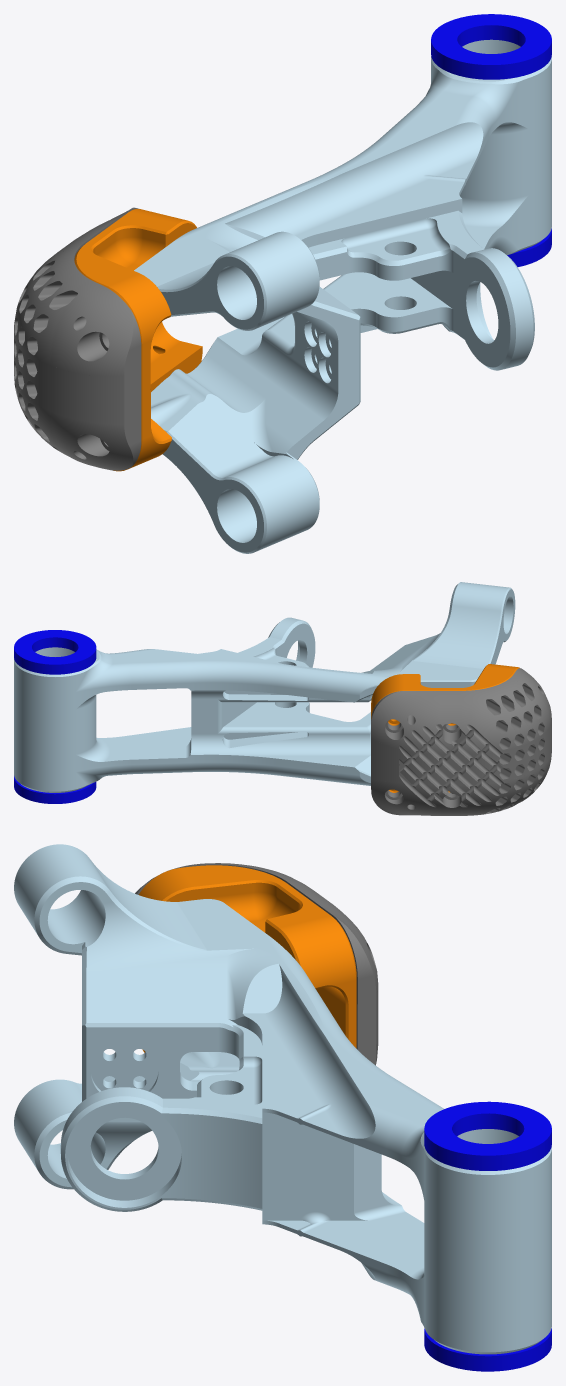
The model's file is foot_link.dae.
3 views of the same model, one above another, from view 1: azimuth 30°, elevation 25°; view 2: azimuth 150°, elevation 25°; view 3: azimuth 270°, elevation 25° (orthographic). The views are drawn at different scales.
Parts seen in each view (by area): view 1: foot, Heel_Pad, Foot_Frame_final, BR_Thrust_Needle_BA1730 (×2); view 2: foot, Heel_Pad, BR_Thrust_Needle_BA1730 (×2), Foot_Frame_final; view 3: foot, Foot_Frame_final, BR_Thrust_Needle_BA1730 (×2), Heel_Pad.
Boxes of the visible parts, x1=… form: foot: x1=134, y1=39, x2=551, y2=553; Heel_Pad: x1=14, y1=207, x2=141, y2=470; Foot_Frame_final: x1=74, y1=209, x2=202, y2=471; BR_Thrust_Needle_BA1730 (×2): x1=431, y1=14, x2=551, y2=266; foot: x1=14, y1=582, x2=515, y2=792; Heel_Pad: x1=371, y1=668, x2=551, y2=815; BR_Thrust_Needle_BA1730 (×2): x1=14, y1=630, x2=96, y2=803; Foot_Frame_final: x1=371, y1=664, x2=519, y2=792; foot: x1=14, y1=844, x2=551, y2=1354; Foot_Frame_final: x1=139, y1=865, x2=356, y2=1052; BR_Thrust_Needle_BA1730 (×2): x1=424, y1=1101, x2=551, y2=1371; Heel_Pad: x1=135, y1=863, x2=378, y2=1065.
Bounding box in the file's own units: 0.1831 × 0.081 × 0.1264.
